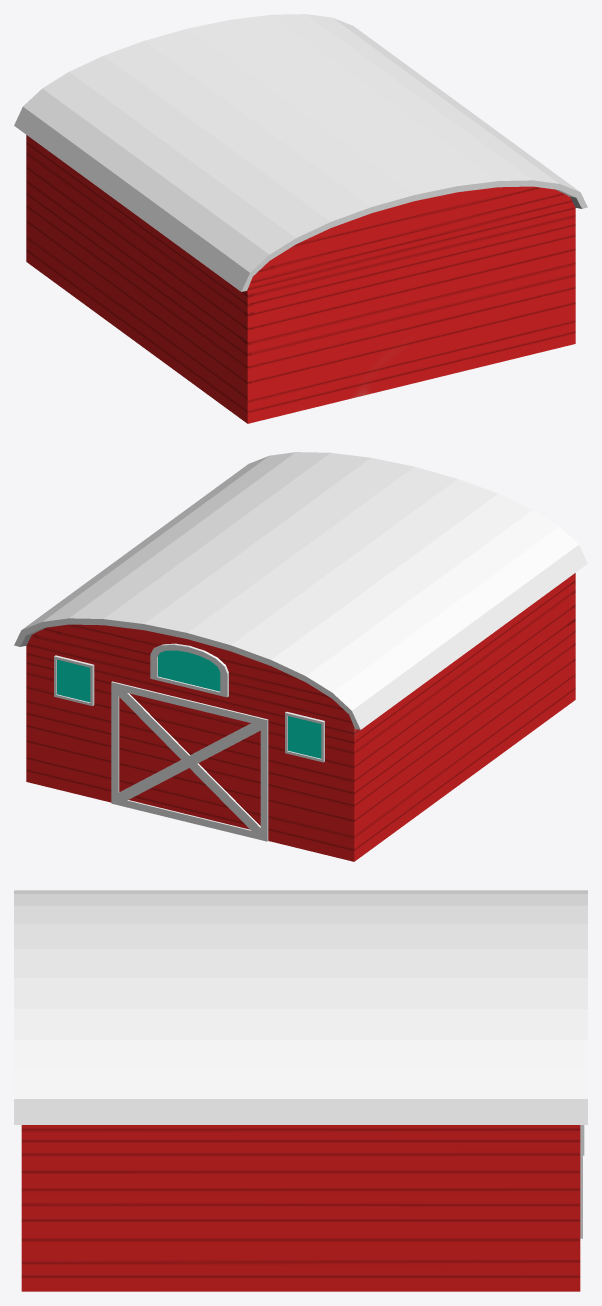
Rendered from celeiro.fbx.
3 renders of one model, top to bottom at view 1: azimuth 30°, elevation 25°; view 2: azimuth 150°, elevation 25°; view 3: azimuth 270°, elevation 25°, orthographic. The views are drawn at different scales.
Parts seen in each view (by area): view 1: Cube; view 2: Cube, Cube.001, Cube.002, Cube.004, Cube.003; view 3: Cube.
Boxes of the visible parts, x1,y1,x2,y2 form: Cube: (14,14,587,423); Cube: (14,452,587,861); Cube.001: (111,681,268,841); Cube.002: (150,643,228,697); Cube.004: (54,655,94,705); Cube.003: (285,711,324,762); Cube: (14,890,587,1291).
Bounding box in the file's own units: 1799 × 947 × 2041.
Materials: 4 (4 with a texture image).
